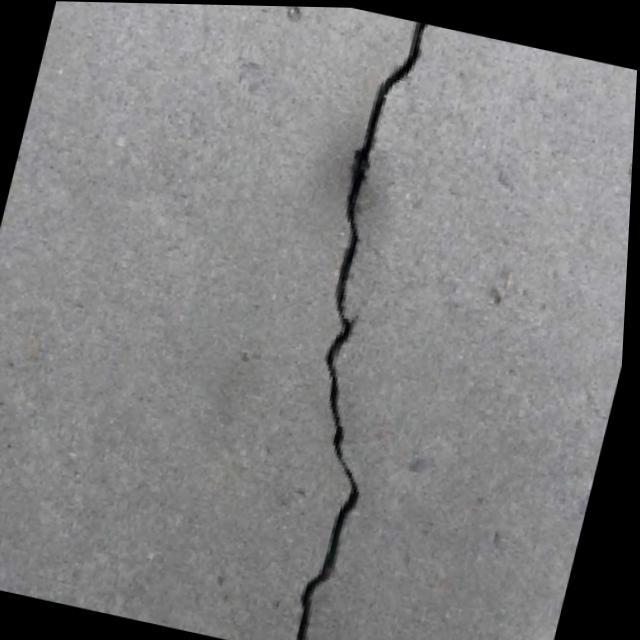Crack: (211, 6, 504, 640)
